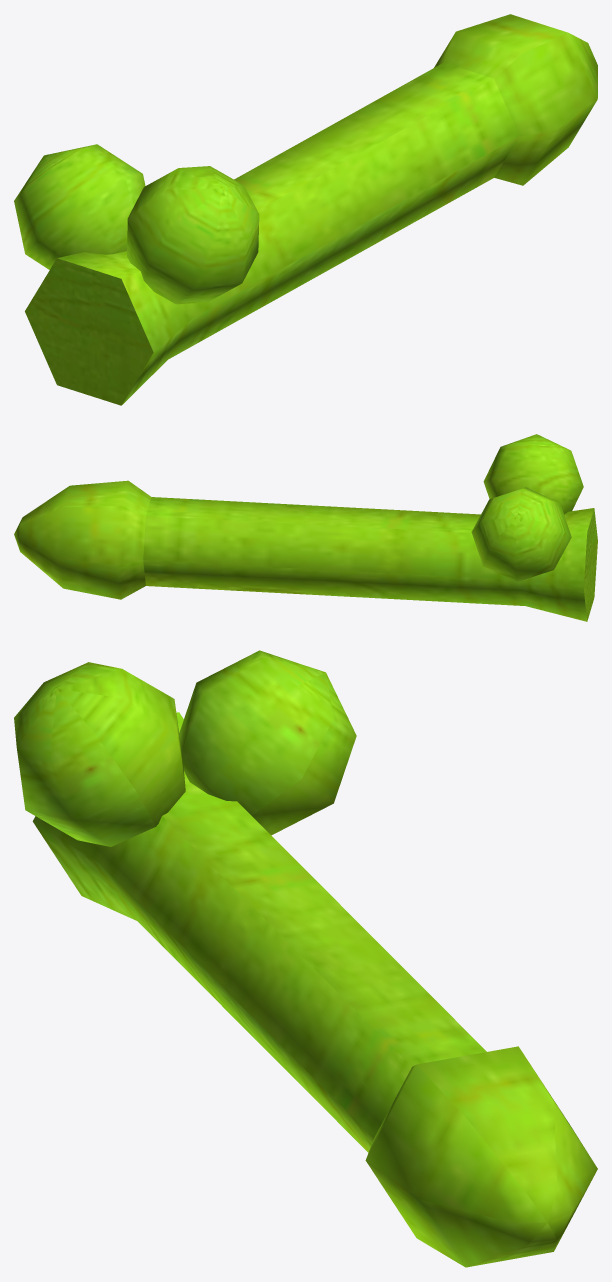
The model's file is crocodildo.fbx.
The picture shows the model from 3 angles, top to bottom: view 1: azimuth 30°, elevation 25°; view 2: azimuth 150°, elevation 25°; view 3: azimuth 270°, elevation 25°; orthographic projection. The views are drawn at different scales.
Visible parts, largest first — view 1: Dildo_3; view 2: Dildo_3; view 3: Dildo_3.
Boxes of the visible parts, left/top/right/bottom form: Dildo_3: left=14, top=14, right=597, bottom=405; Dildo_3: left=14, top=434, right=597, bottom=621; Dildo_3: left=14, top=650, right=597, bottom=1267.
Bounding box in the file's own units: 0.7482 × 0.2218 × 0.4235.
1 material, 1 textured.
